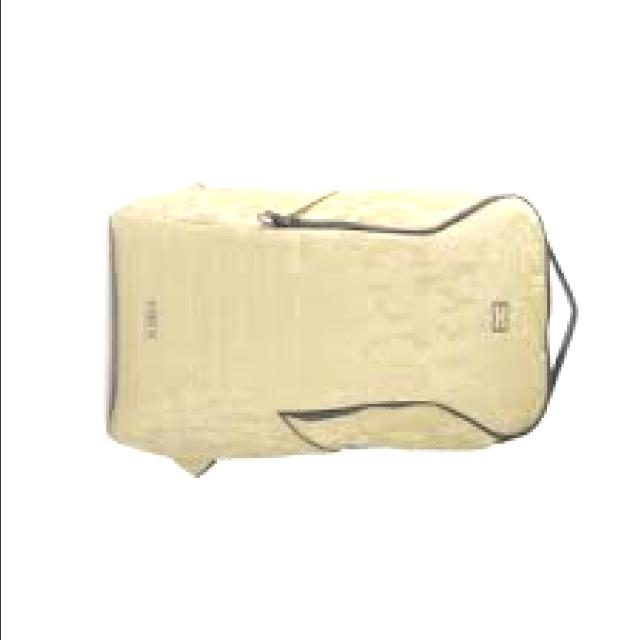backpack: (109, 181, 581, 479)
